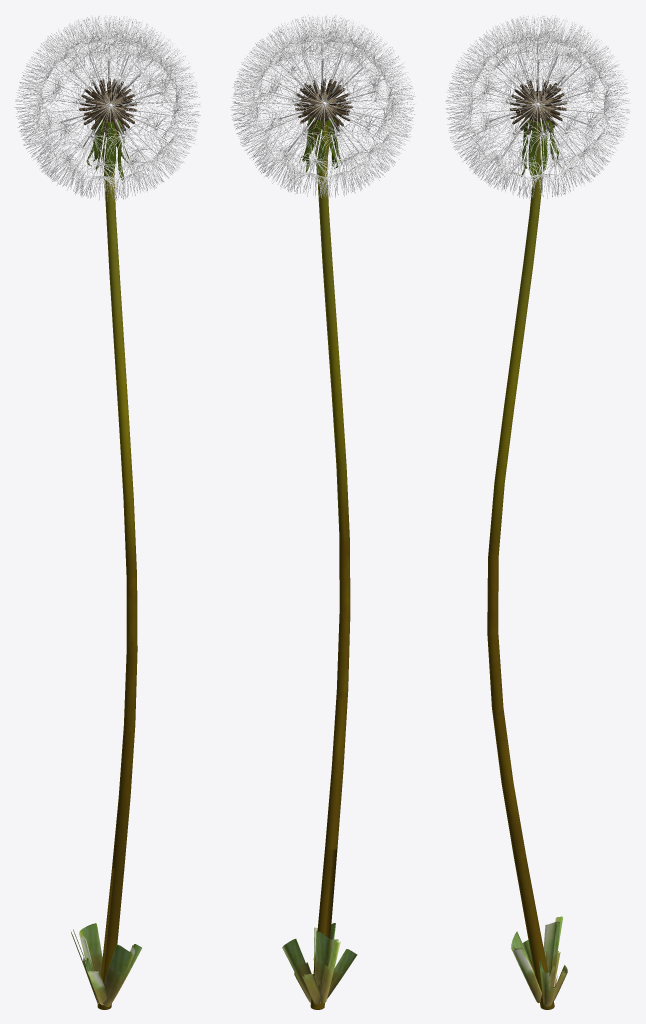
The model's file is diente.fbx.
3 renders of one model, left to right at view 1: azimuth 30°, elevation 25°; view 2: azimuth 150°, elevation 25°; view 3: azimuth 270°, elevation 25°, orthographic.
Parts seen in each view (by area): view 1: 12971_Dandelion_Flower_v1_l2; view 2: 12971_Dandelion_Flower_v1_l2; view 3: 12971_Dandelion_Flower_v1_l2.
Boxes of the visible parts, x1,y1,x2,y2 form: 12971_Dandelion_Flower_v1_l2: [14, 14, 200, 1009]; 12971_Dandelion_Flower_v1_l2: [230, 14, 416, 1009]; 12971_Dandelion_Flower_v1_l2: [445, 14, 631, 1009].
Size of the model in its own units: 57.88 by 339 by 58.25.
Materials: 1 (1 with a texture image).
